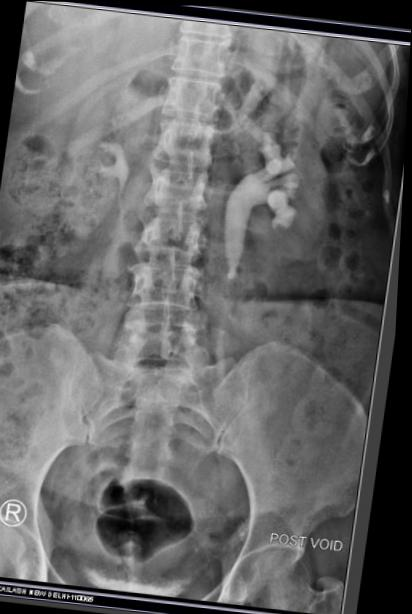bladder: (75, 471, 225, 609)
left kidney: (221, 106, 365, 295)
right kidney: (50, 74, 154, 252)
vertebrae: (154, 111, 232, 170)
